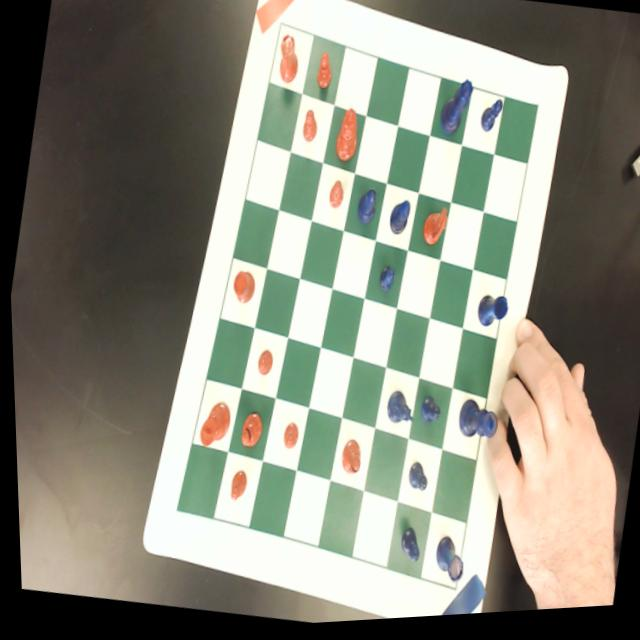B: (384, 201, 411, 241), (352, 191, 378, 229)
K: (450, 400, 498, 450)
N: (381, 393, 414, 432)
P: (392, 529, 419, 571), (476, 101, 503, 140), (401, 463, 427, 497), (414, 398, 440, 430), (373, 267, 395, 298)
Q: (434, 80, 476, 143)
R: (426, 537, 465, 590), (472, 296, 508, 337)
b: (234, 411, 261, 452), (334, 440, 360, 481)
k: (193, 400, 230, 452)
n: (417, 207, 449, 254)
p: (312, 53, 336, 96), (223, 470, 245, 505), (299, 111, 320, 147), (325, 182, 345, 215), (277, 422, 298, 453), (252, 349, 272, 381)
q: (330, 109, 362, 168)
r: (272, 32, 305, 91), (227, 271, 256, 310)
